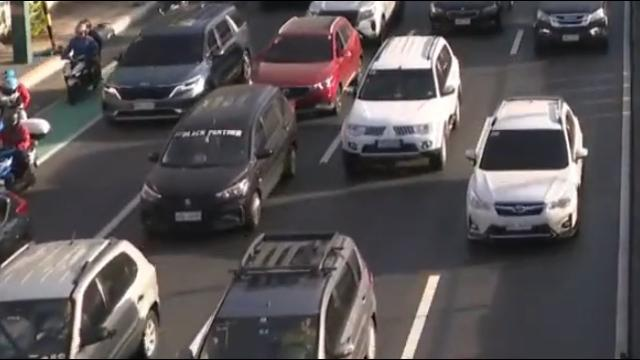car: (186, 231, 380, 360), (138, 84, 297, 235), (0, 236, 160, 360), (101, 6, 252, 122), (465, 97, 583, 242), (341, 36, 461, 174), (252, 17, 361, 114), (306, 1, 402, 44), (532, 1, 611, 53), (428, 0, 518, 36)
motorcycle: (58, 20, 102, 105), (0, 118, 49, 185), (1, 69, 31, 134)
